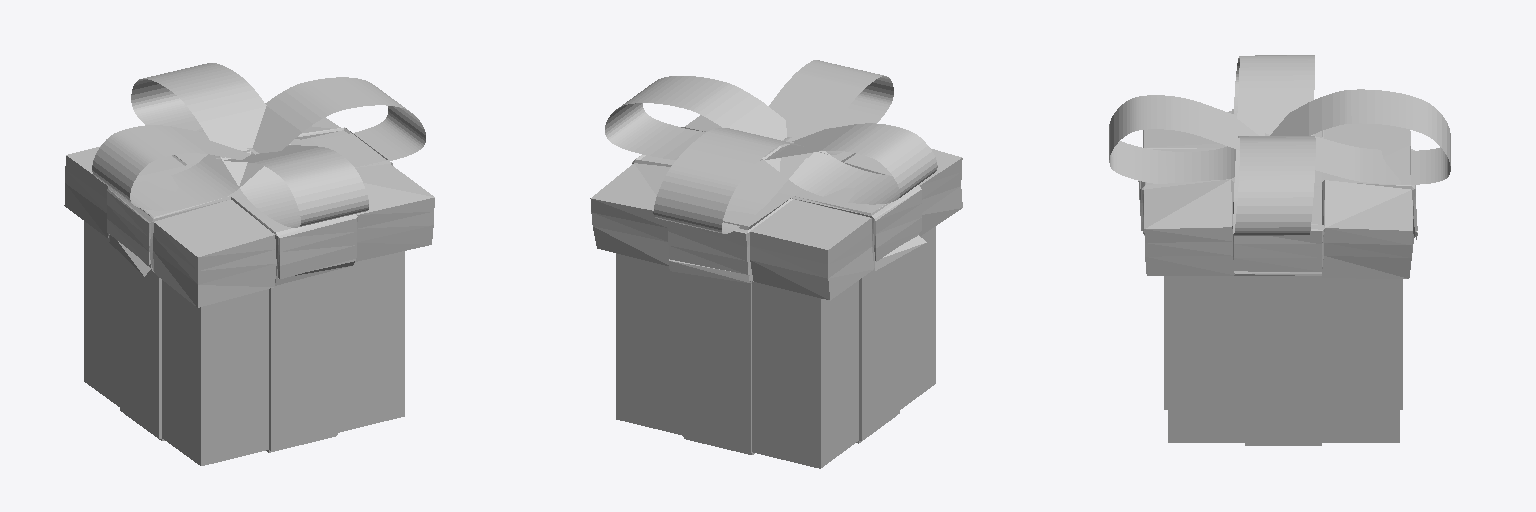
Rendered from gift.obj.
3 renders of one model, left to right at view 1: azimuth 30°, elevation 25°; view 2: azimuth 150°, elevation 25°; view 3: azimuth 270°, elevation 25°, orthographic.
Parts seen in each view (by area): view 1: Cube, Cube_1, Cube_1 Extrude_NURBS, Cube_1 Extrude_NURBS_1; view 2: Cube, Cube_1, Cube_1 Extrude_NURBS, Cube_1 Extrude_NURBS_1; view 3: Cube, Cube_1, Cube_1 Extrude_NURBS_1, Cube_1 Extrude_NURBS.
Part boxes in pixels (x1,y1,x2,y2): Cube: (84, 221, 404, 465); Cube_1: (64, 117, 434, 307); Cube_1 Extrude_NURBS: (92, 77, 425, 210); Cube_1 Extrude_NURBS_1: (131, 63, 368, 227); Cube: (616, 226, 935, 468); Cube_1: (590, 115, 962, 300); Cube_1 Extrude_NURBS: (605, 76, 937, 204); Cube_1 Extrude_NURBS_1: (653, 60, 893, 233); Cube: (1164, 276, 1402, 445); Cube_1: (1138, 109, 1417, 278); Cube_1 Extrude_NURBS_1: (1109, 89, 1450, 184); Cube_1 Extrude_NURBS: (1233, 55, 1315, 235).
Size of the model in its own units: 456 by 428 by 456.